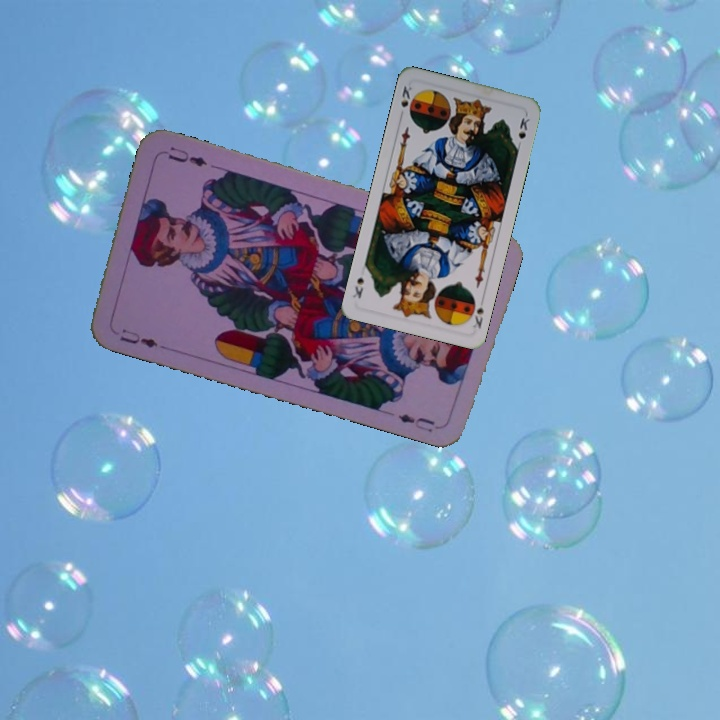EU: (116, 324, 161, 351)
SK: (465, 293, 487, 331), (397, 81, 415, 110)
